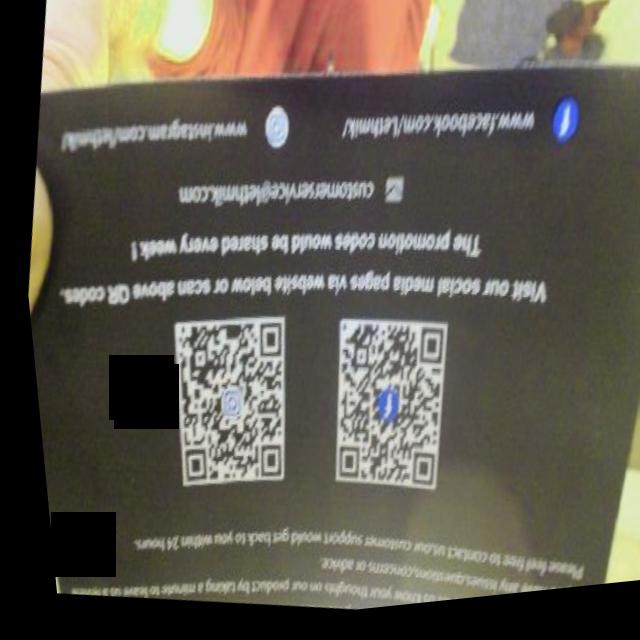QR_CODE: (289, 299, 470, 570), (126, 284, 315, 529)
